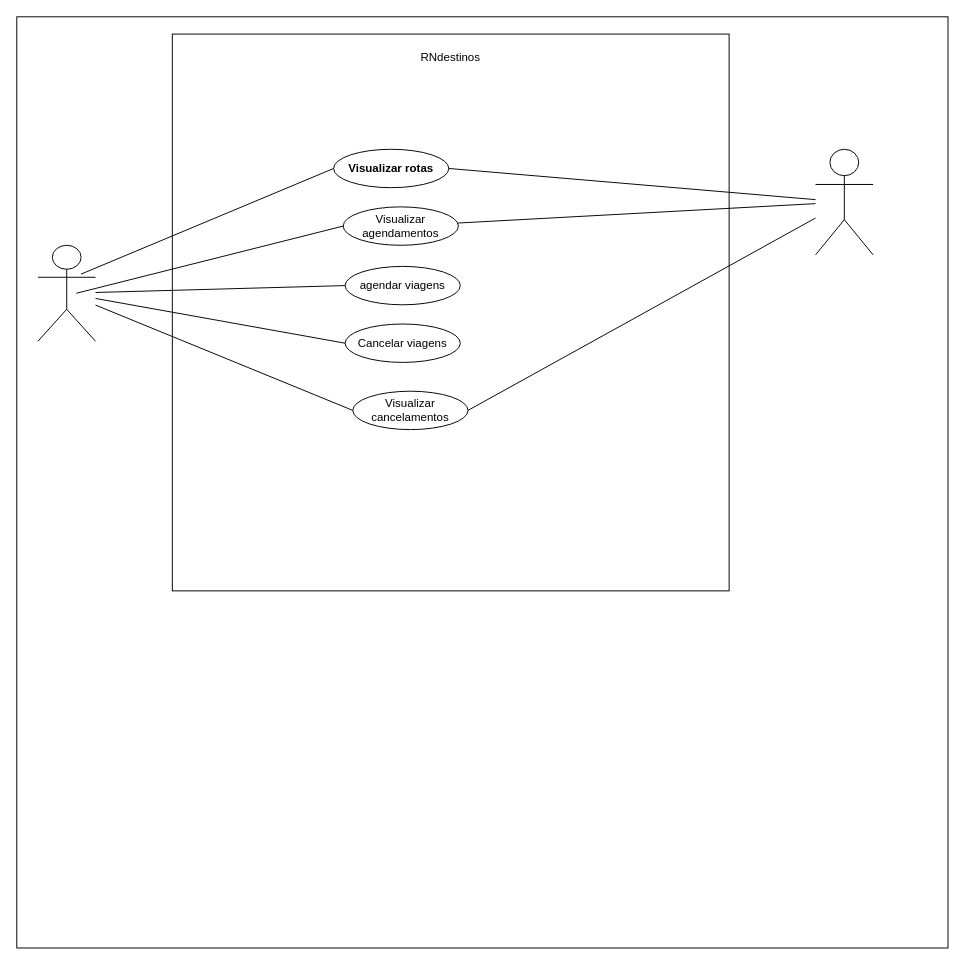
Some shapes in this 965 by 965 pixel diagram are drawn without their labels. Here are the shapes that lost their labels. From the top down, the box of each, then its label:
(815, 148, 873, 255): Guia Turistico
(37, 244, 96, 341): Turista
